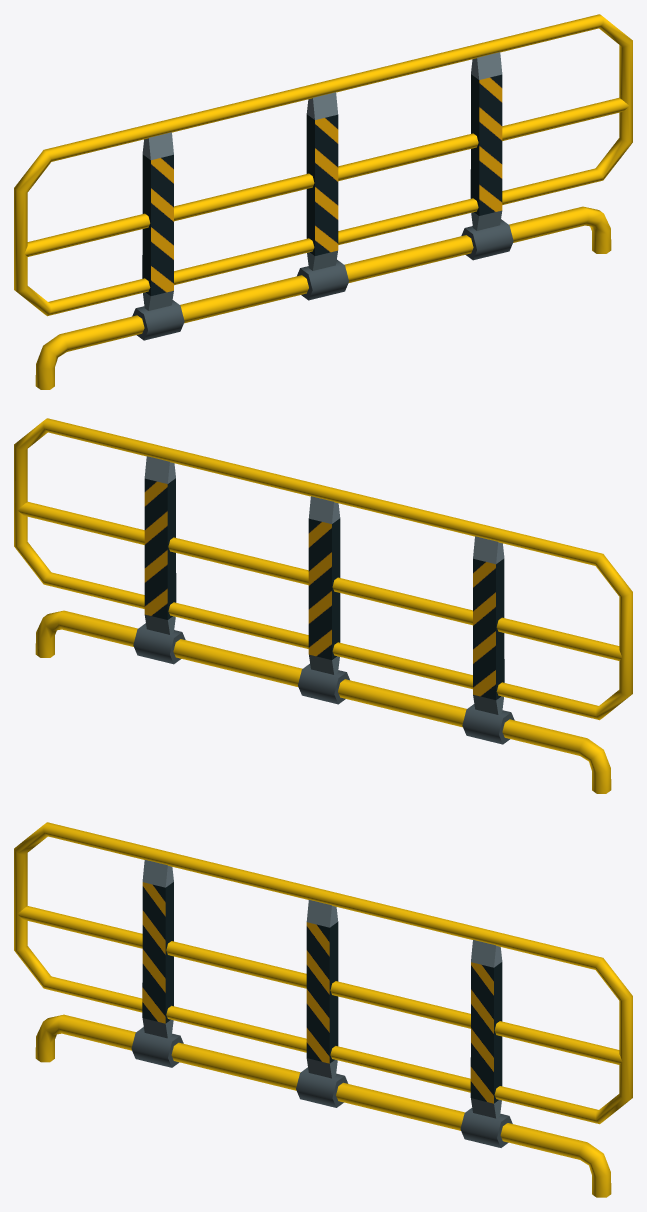
The model's file is Fence_type_C_004.fbx.
The picture shows the model from 3 angles, top to bottom: view 1: azimuth 30°, elevation 25°; view 2: azimuth 150°, elevation 25°; view 3: azimuth 330°, elevation 25°; orthographic projection.
Parts seen in each view (by area): view 1: Fence_type_C_004; view 2: Fence_type_C_004; view 3: Fence_type_C_004.
Part boxes in pixels (x1=…): Fence_type_C_004: x1=14, y1=14, x2=632, y2=389; Fence_type_C_004: x1=14, y1=418, x2=632, y2=793; Fence_type_C_004: x1=14, y1=822, x2=632, y2=1197.
Bounding box in the file's own units: 390 × 18.39 × 142.
